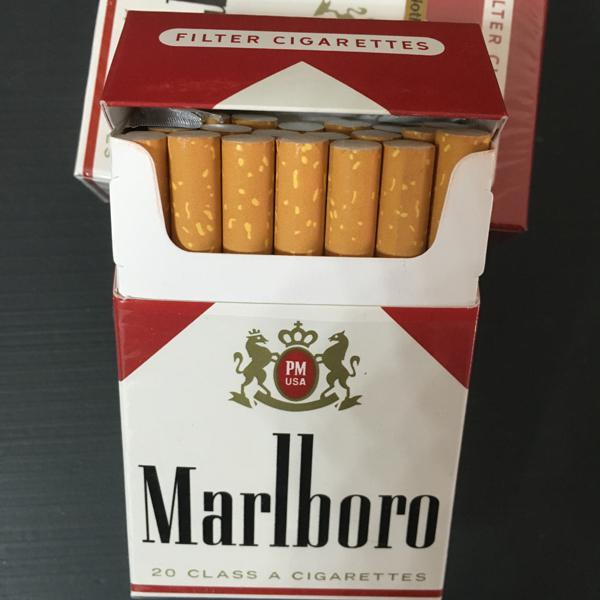marlboro_red: (121, 147, 447, 597)
